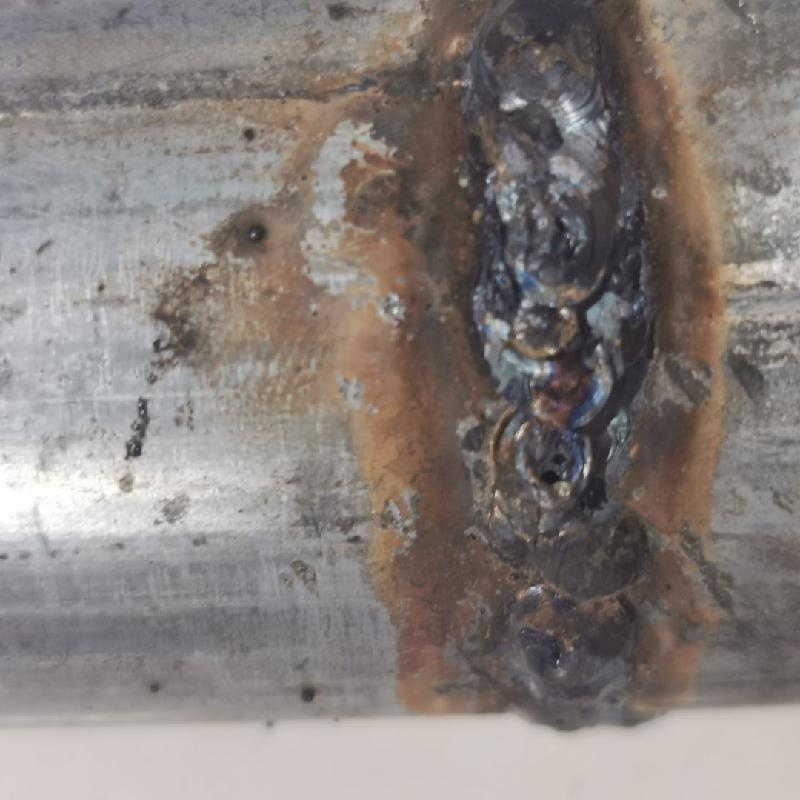Surface_pores: (523, 440, 588, 487)
crater: (463, 172, 647, 506)
wrong_size: (478, 512, 648, 732), (457, 5, 618, 148)
